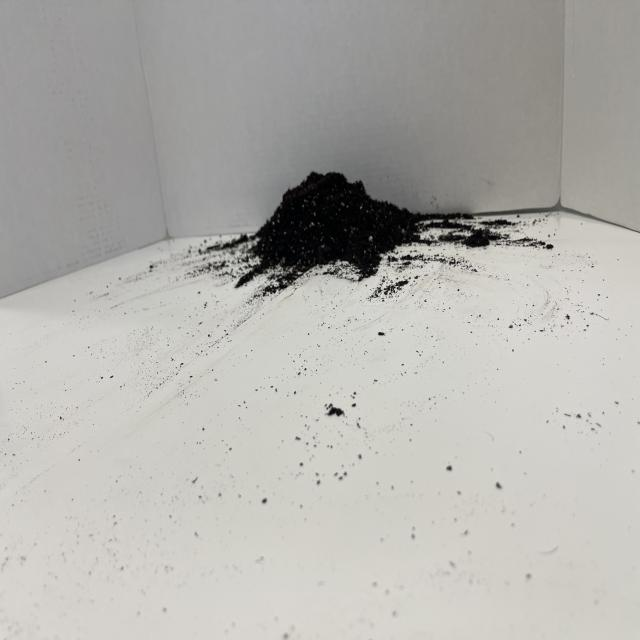soil: (238, 167, 420, 290)
